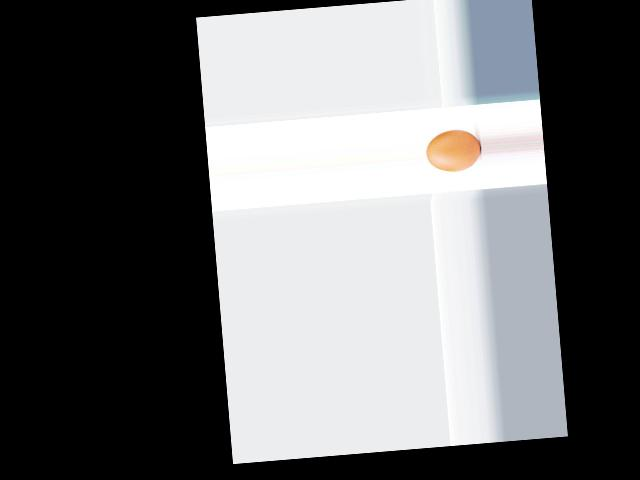egg: (425, 127, 482, 173)
